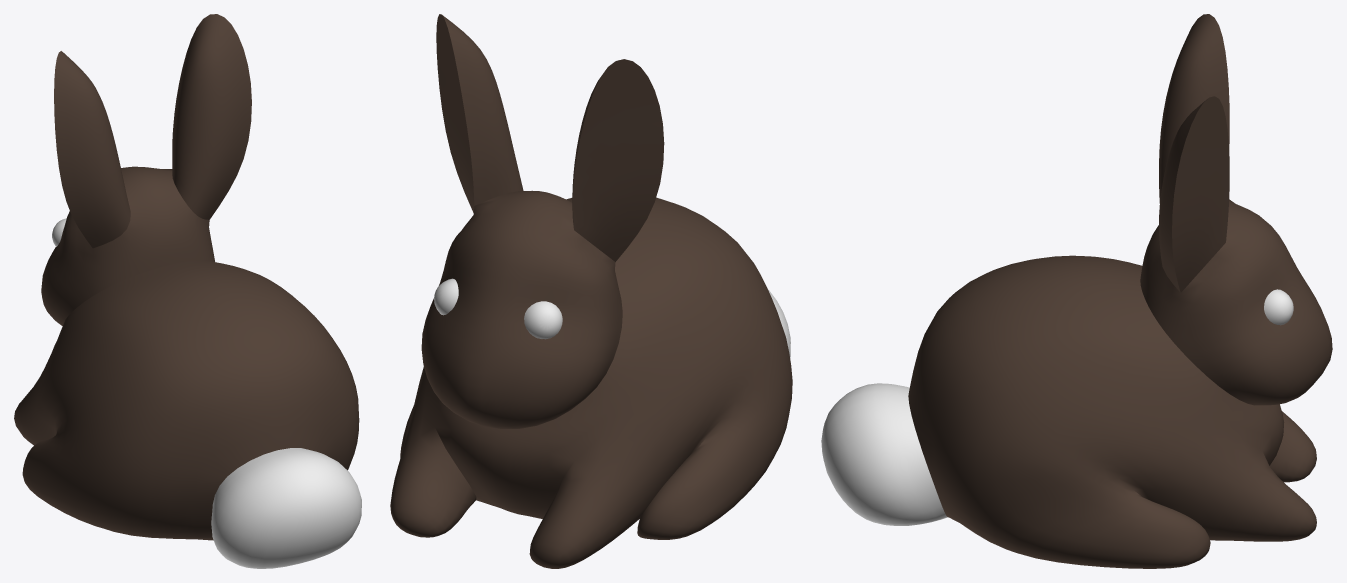
Rendered from bnuuy.fbx.
3 renders of one model, left to right at view 1: azimuth 30°, elevation 25°; view 2: azimuth 150°, elevation 25°; view 3: azimuth 270°, elevation 25°, orthographic. The views are drawn at different scales.
Parts seen in each view (by area): view 1: Bunny; view 2: Bunny; view 3: Bunny.
Boxes of the visible parts, x1=… form: Bunny: x1=14, y1=14, x2=361, y2=568; Bunny: x1=390, y1=14, x2=792, y2=568; Bunny: x1=821, y1=14, x2=1332, y2=568.
Size of the model in its own units: 276 by 396 by 404.
